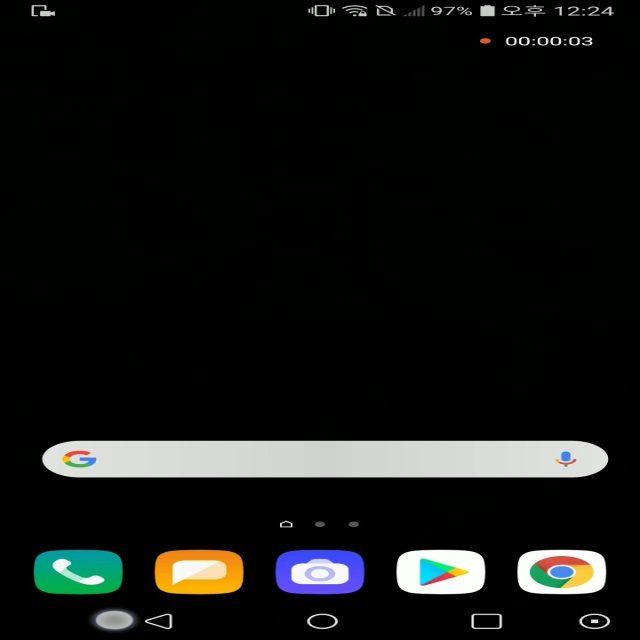Cursor: (92, 611, 136, 633)
